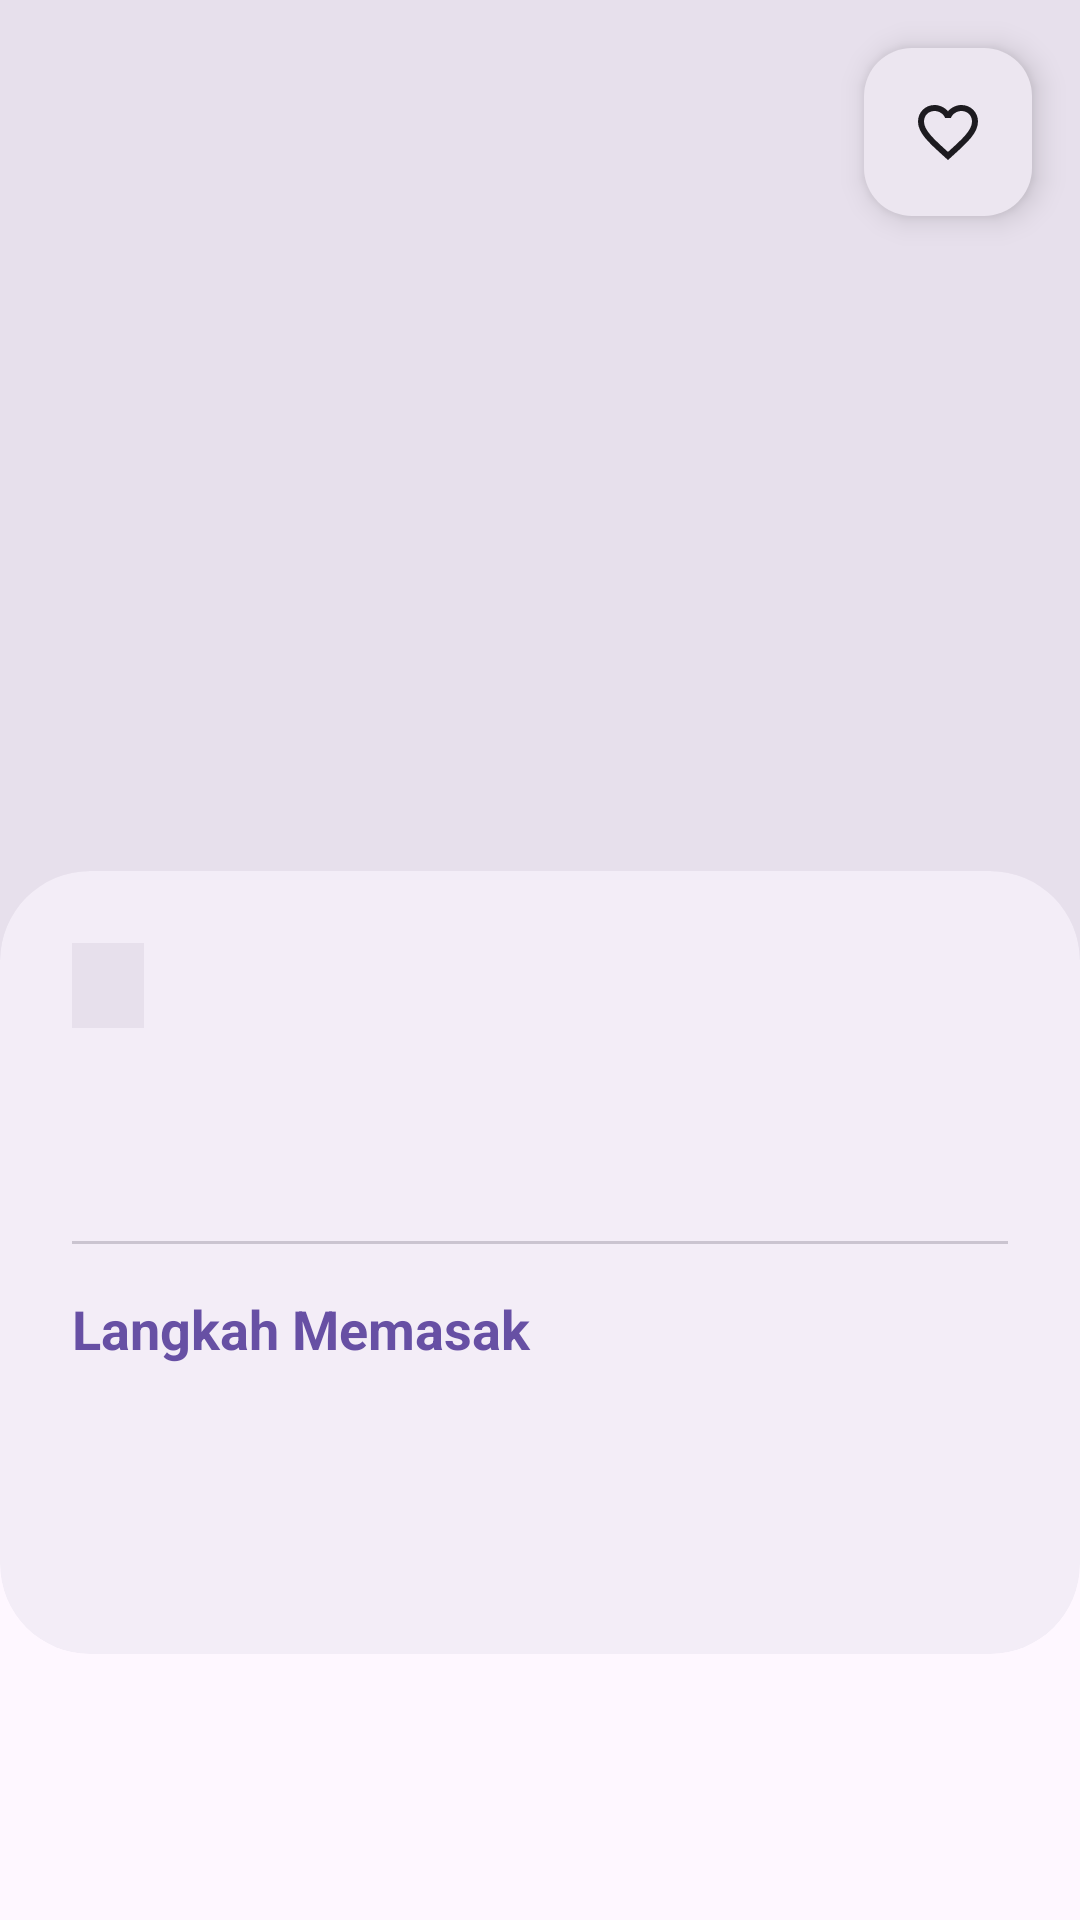

Named icons in this screenshot (1080px×1920px) and their centers, point (x, y):
Tambah ke Favorit: point (948, 132)
